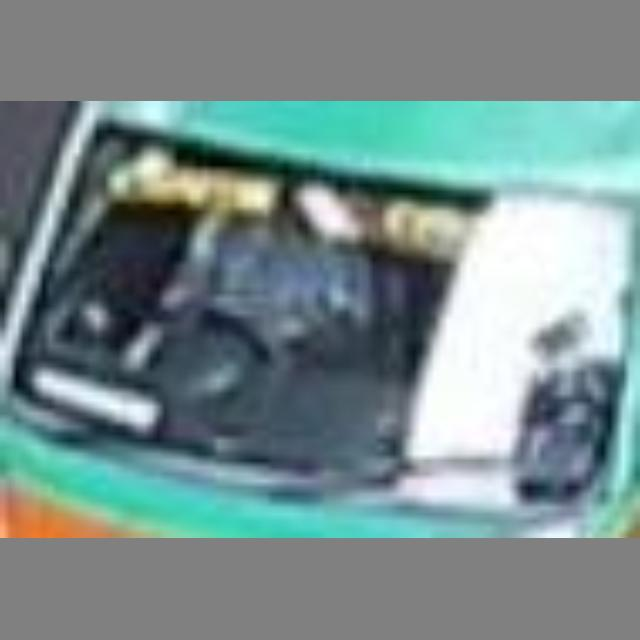tidak-pakai: (162, 209, 411, 391)
